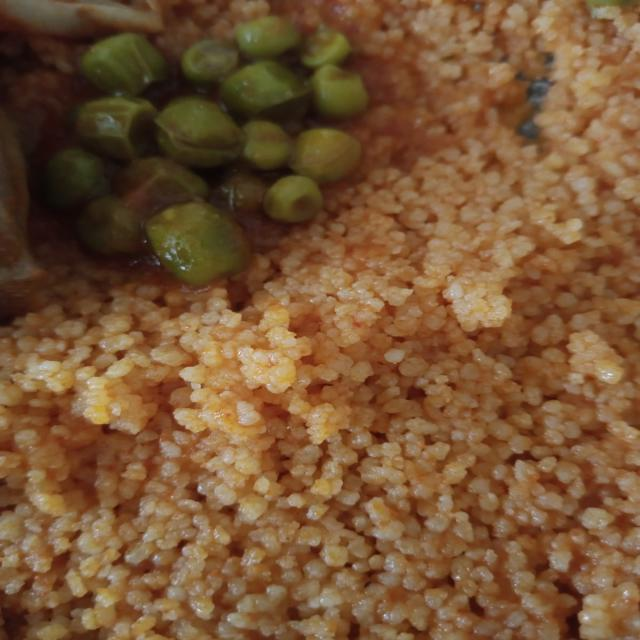Couscous: (17, 15, 630, 638)
